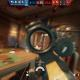Character: (40, 40, 43, 50)
Friend_label: (23, 44, 28, 48), (7, 34, 11, 37)
